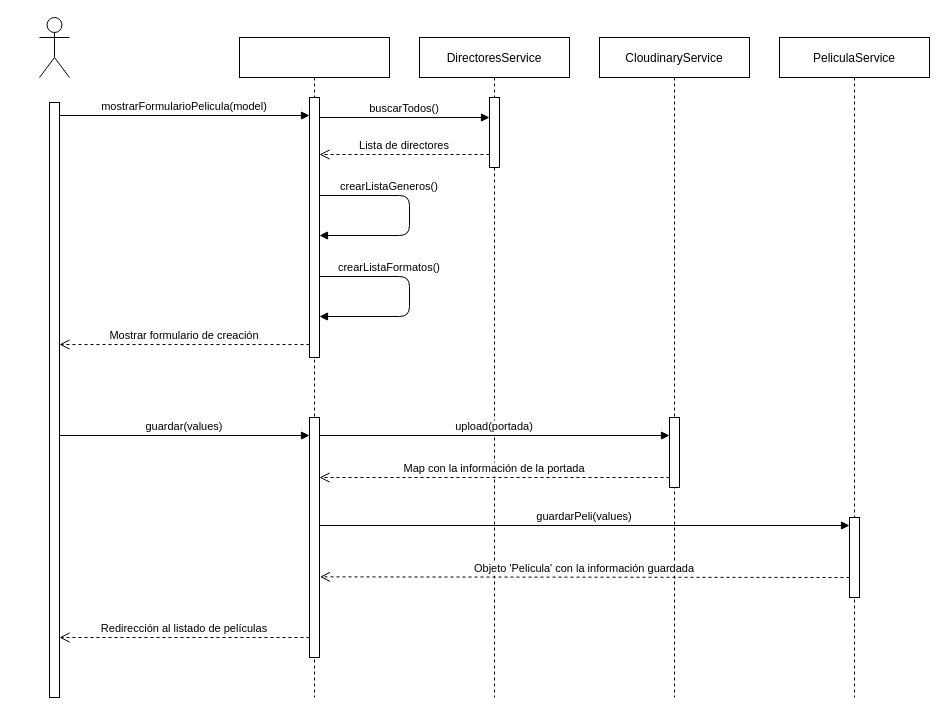
This 947x715 diagram has some shape labels left out. The centre of each missing label's shape, as x and y in pixels:
"Administrador" belongs at pixel 54 47.
"PeliculasController" belongs at pixel 314 367.
